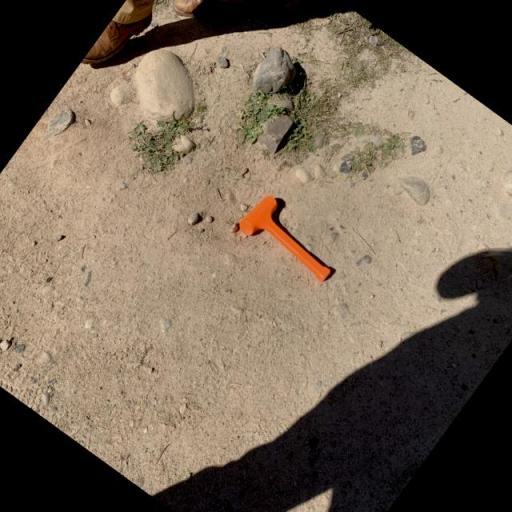mallet: (230, 185, 352, 295)
